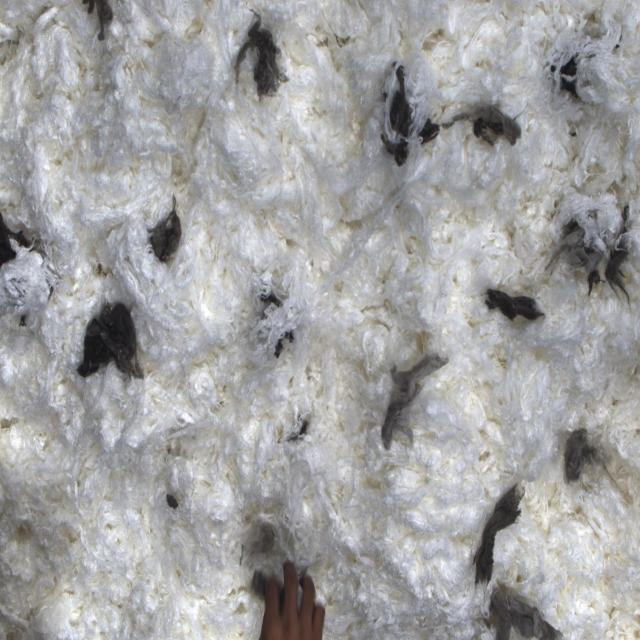dust: (465, 245, 563, 385), (544, 195, 638, 300), (551, 0, 638, 103), (556, 406, 638, 509), (376, 348, 452, 452), (76, 285, 146, 396), (420, 92, 530, 162), (468, 477, 531, 591), (233, 1, 291, 108), (0, 206, 51, 296), (482, 589, 565, 640), (142, 188, 186, 281), (255, 280, 300, 370), (376, 60, 411, 173), (75, 0, 127, 56), (279, 406, 316, 453), (162, 476, 187, 530)
